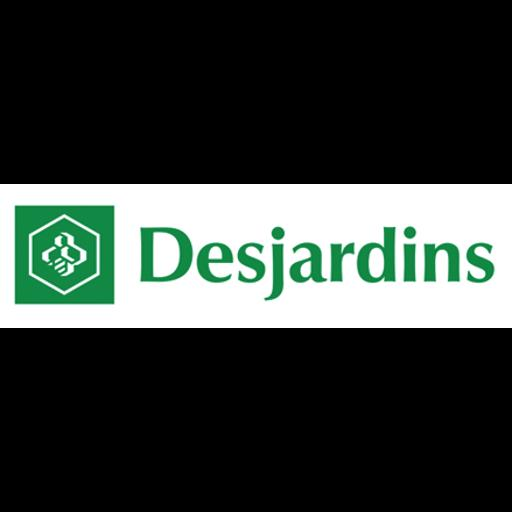Desjardins: (0, 184, 512, 328)
